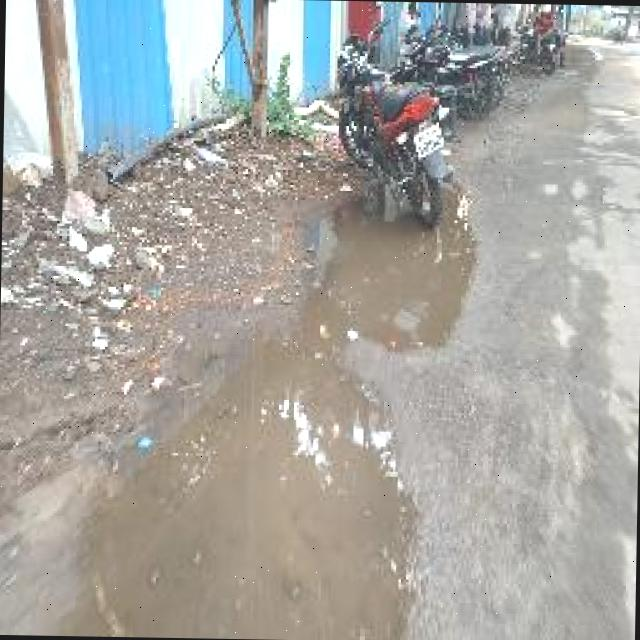stagnation: (128, 303, 421, 640)
